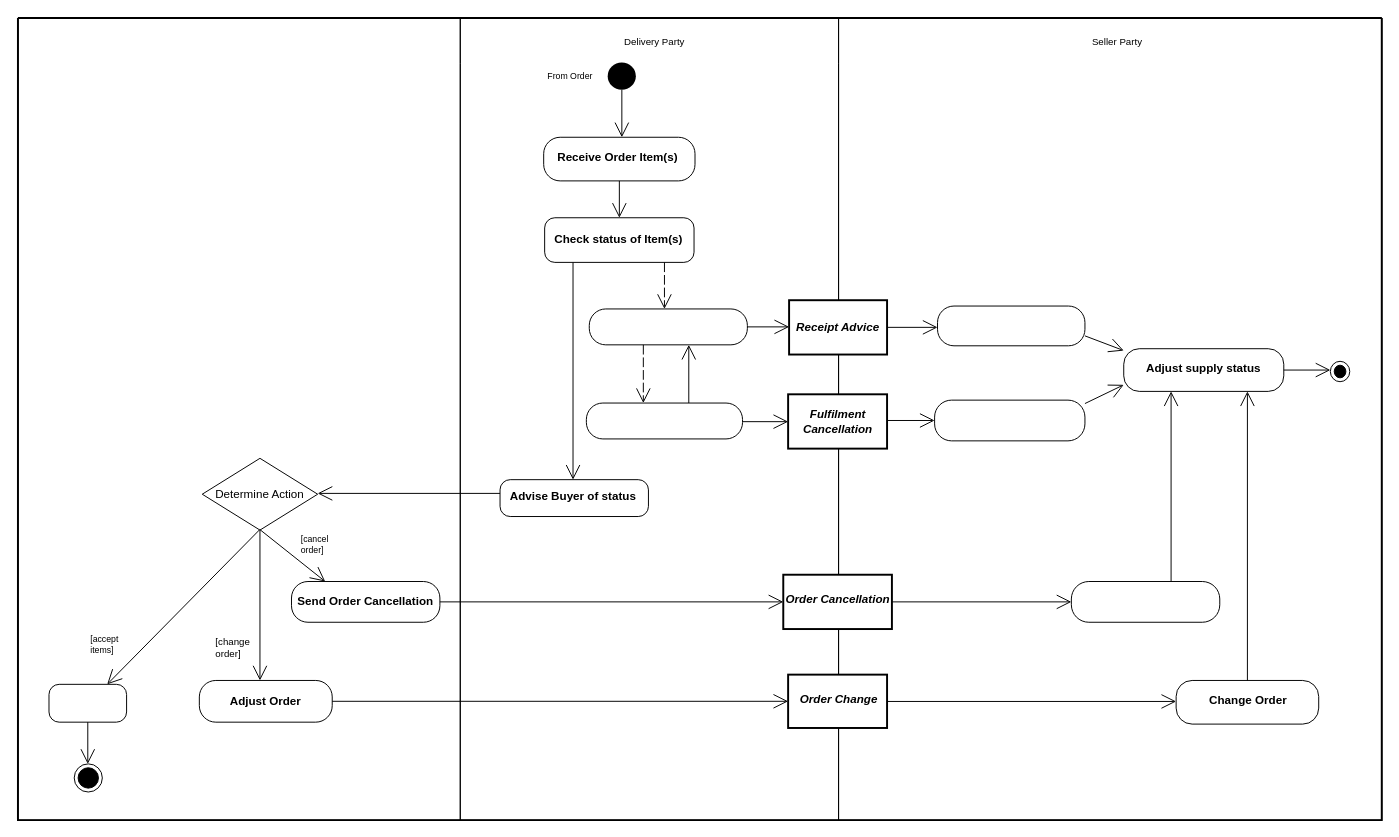
Some shapes in this 1399 by 837 pixel diagram are drawn without their labels. Each missing label, with the box of its shape:
Accept Items: (48, 683, 127, 722)
Buyer Party: (17, 17, 460, 820)
Cancel order: (1070, 581, 1220, 622)
Cancel receipt notification: (585, 402, 743, 439)
Receive Fulfilment Cancellation: (934, 399, 1085, 441)
Receive Receipt Advice: (937, 305, 1085, 346)
Send Receipt Advice: (588, 308, 747, 345)
